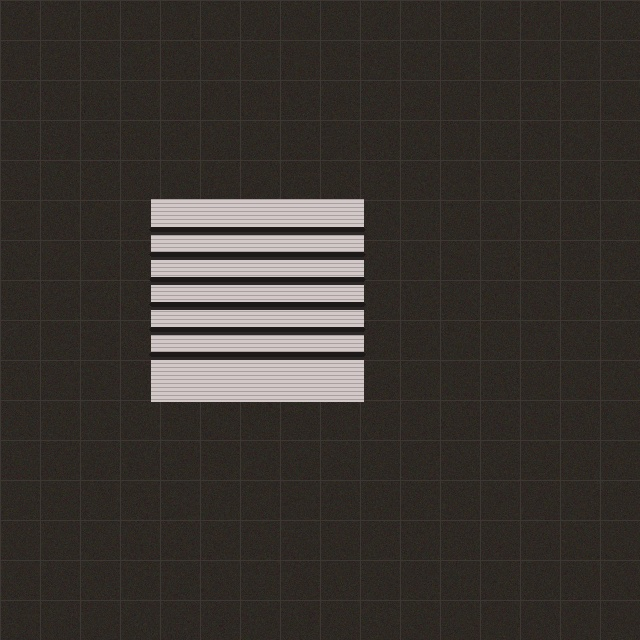under_extrusion: (146, 219, 368, 381)
